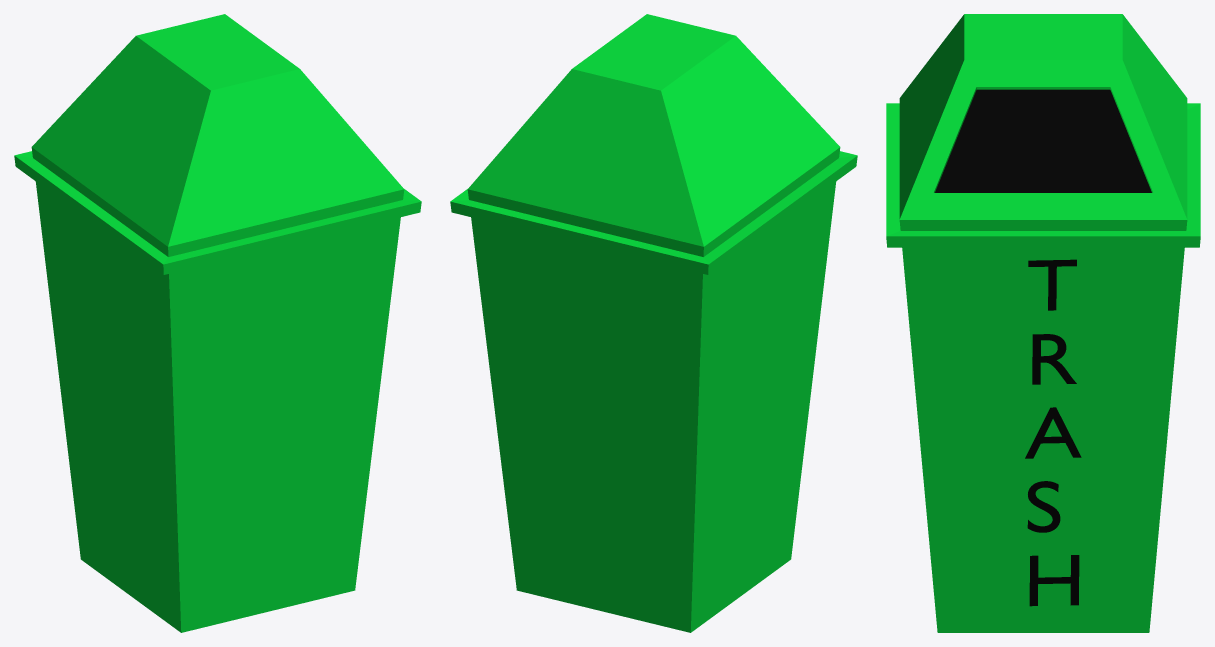
The model's file is basura.fbx.
3 renders of one model, left to right at view 1: azimuth 30°, elevation 25°; view 2: azimuth 150°, elevation 25°; view 3: azimuth 270°, elevation 25°, orthographic. The views are drawn at different scales.
Parts seen in each view (by area): view 1: Basura; view 2: Basura; view 3: Basura, Text.
Boxes of the visible parts, box(x1,y1,x2,y2) form: Basura: box(14, 14, 421, 632); Basura: box(450, 14, 857, 632); Basura: box(886, 14, 1200, 632); Text: box(1025, 259, 1081, 606).
Size of the model in its own units: 219 by 423 by 219.
